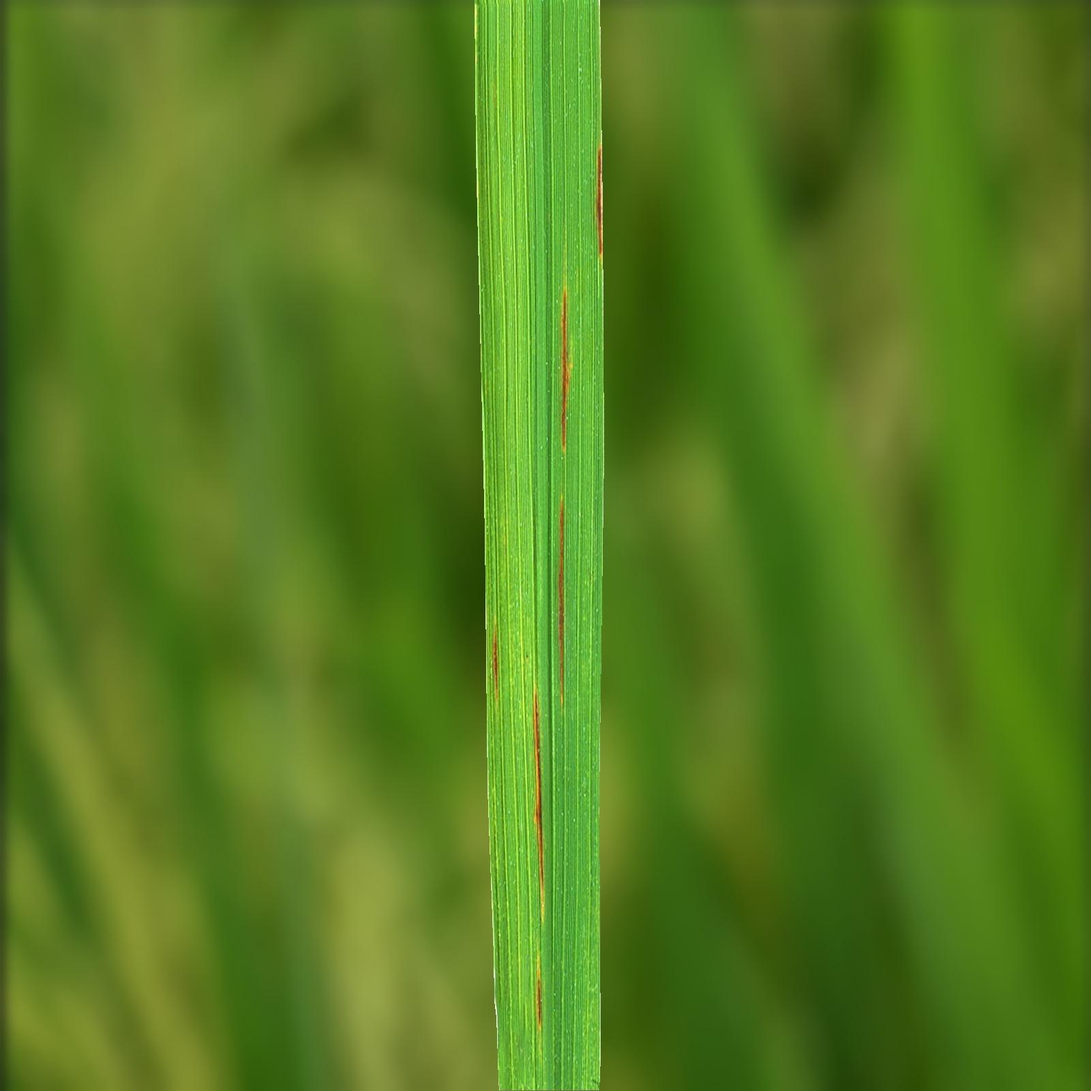LEAF: (475, 0, 603, 1090)
NBS: (534, 689, 543, 922), (558, 496, 564, 701), (562, 288, 569, 449), (595, 144, 602, 258), (492, 625, 498, 699), (537, 964, 541, 1028)
